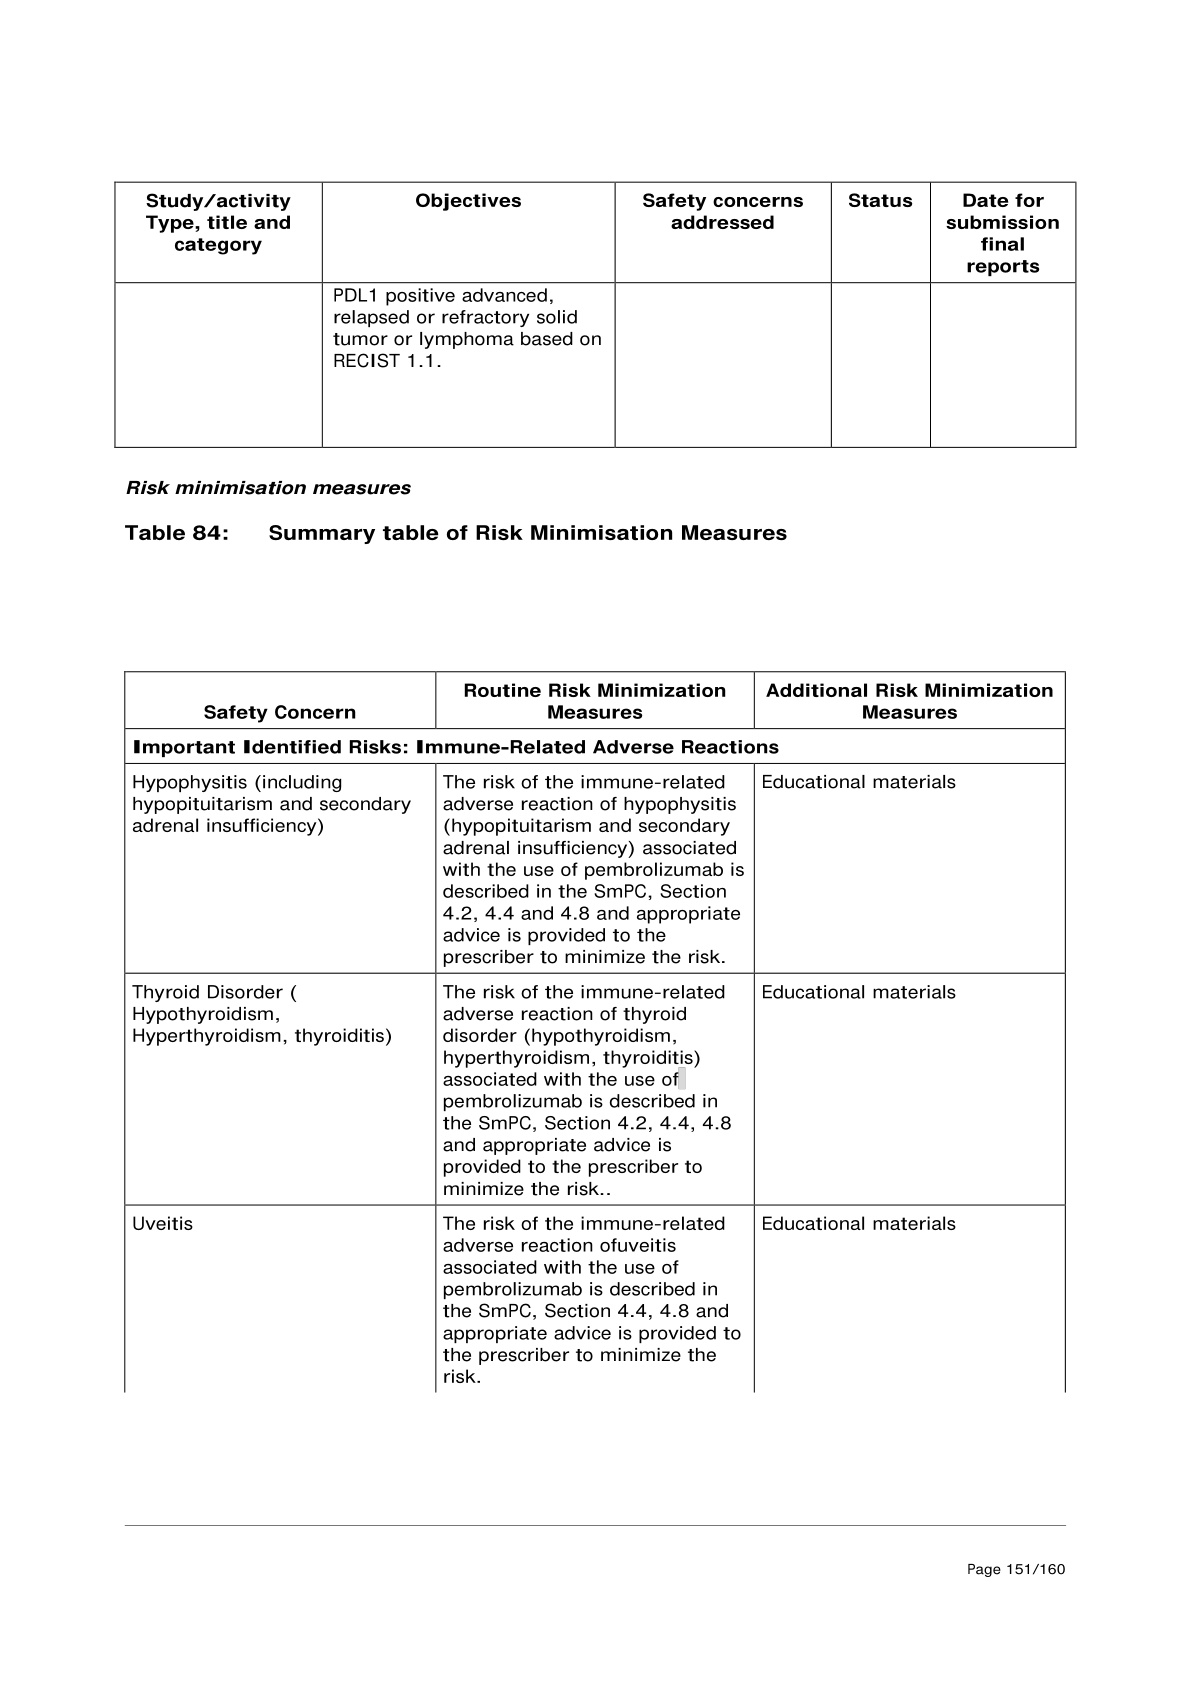full_lined: (113, 180, 1078, 448)
partial_lined_merged_cells: (122, 671, 1066, 1393)
